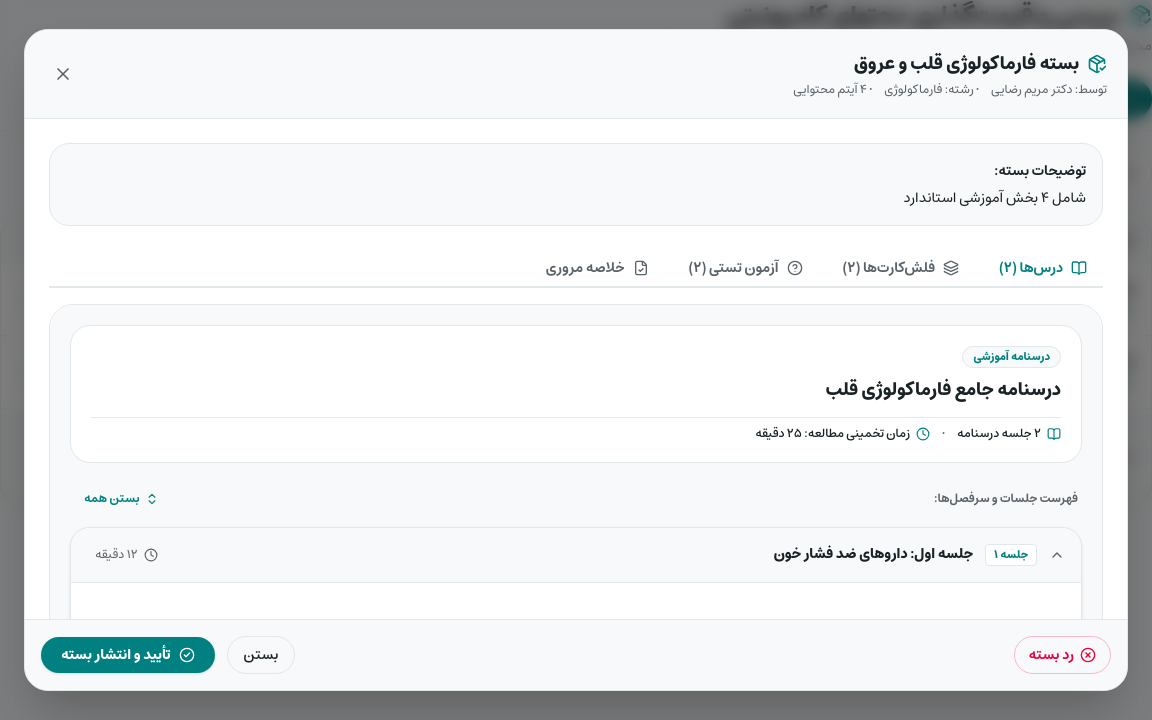
Scenario: AdminCommunityContentPage Component Tests › 3. Tab switching between Lesson, Flashcards, Quiz, and Summary works without crash
Check: the heading "درسنامه جامع فارماکولوژی قلب" is shown, box [826,374,1061,406]
# Switch to Flashcards tab
Click the button "فلش‌کارت‌ها (۲)". click: (901, 269)
box: [826,250,975,288]
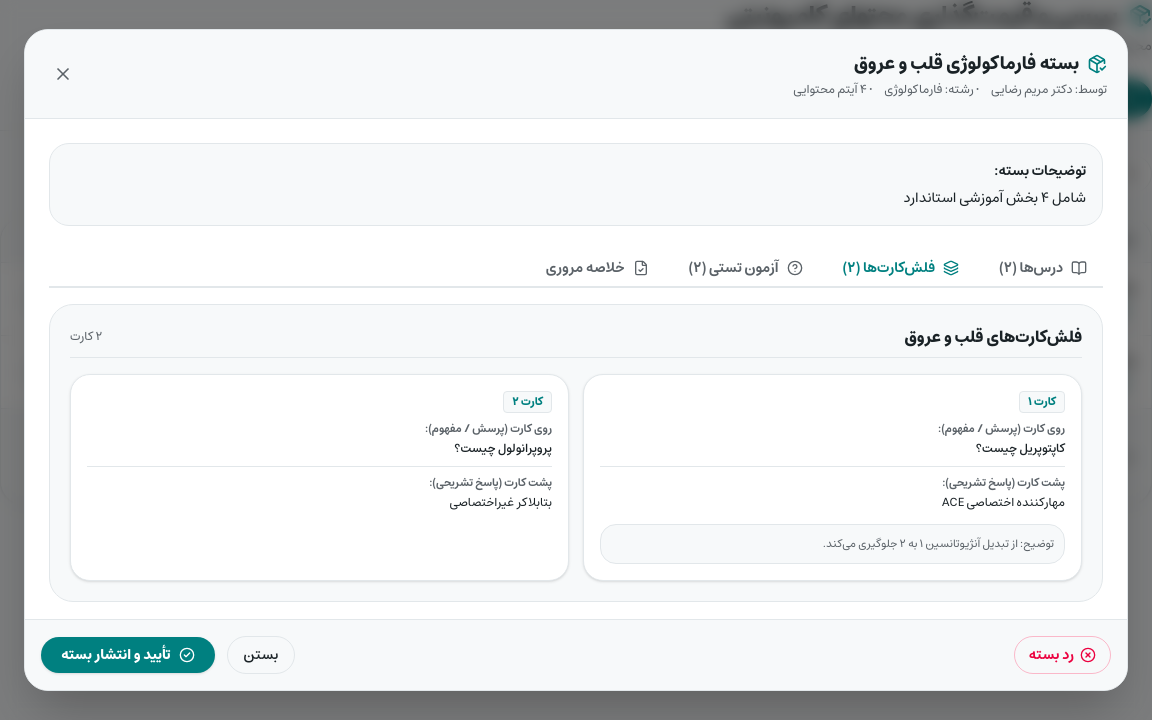
Check: the text "کاپتوپریل چیست؟" is shown, box [976,438,1065,459]
Check: the text "مهارکننده اختصاصی ACE" is shown, box [942,492,1065,513]
Check: the text "از تبدیل آنژیوتانسین ۱ به ۲ جلوگیری می‌کند." is shown, box [823,534,1018,553]
# Switch to Quiz tab
Click the button "آزمون تستی (۲)". click: (746, 269)
box: [672,250,818,288]
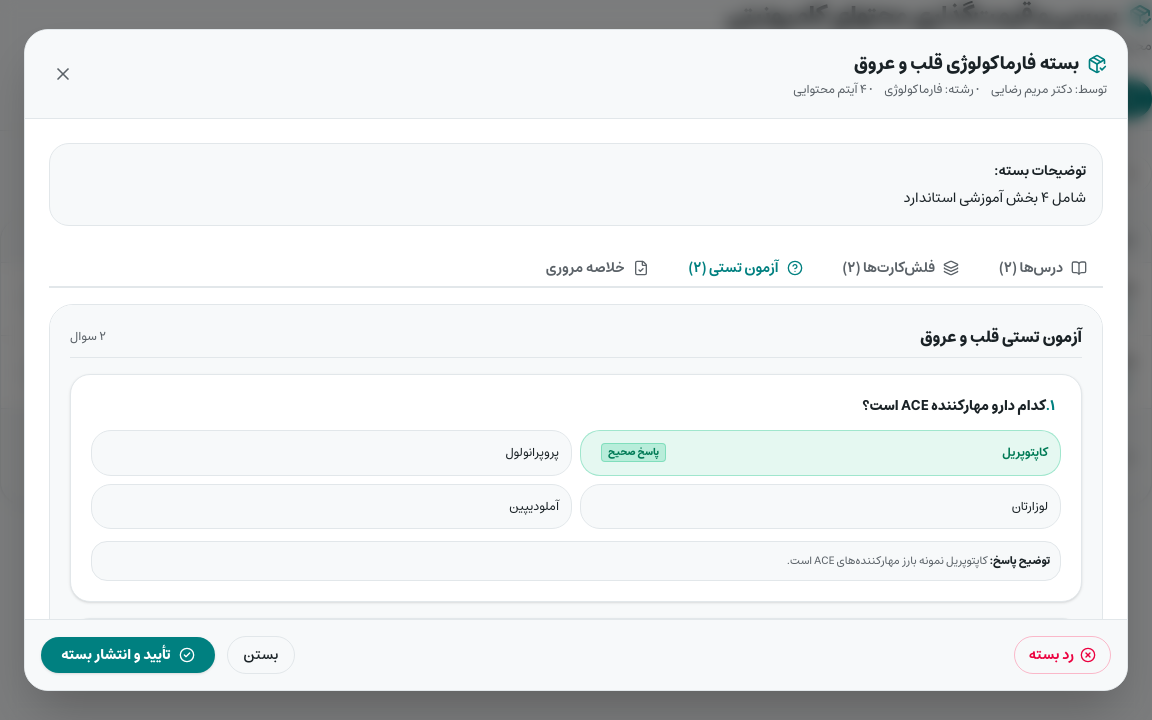
Check: the text "کدام دارو مهارکننده ACE است؟" is shown, box [862,394,1046,418]
Check: the text "کاپتوپریل نمونه بارز مهارکننده‌های ACE است." is shown, box [787,551,988,570]
# Switch to Summary tab
Click the button "خلاصه مروری". click: (597, 269)
box: [530,250,664,288]
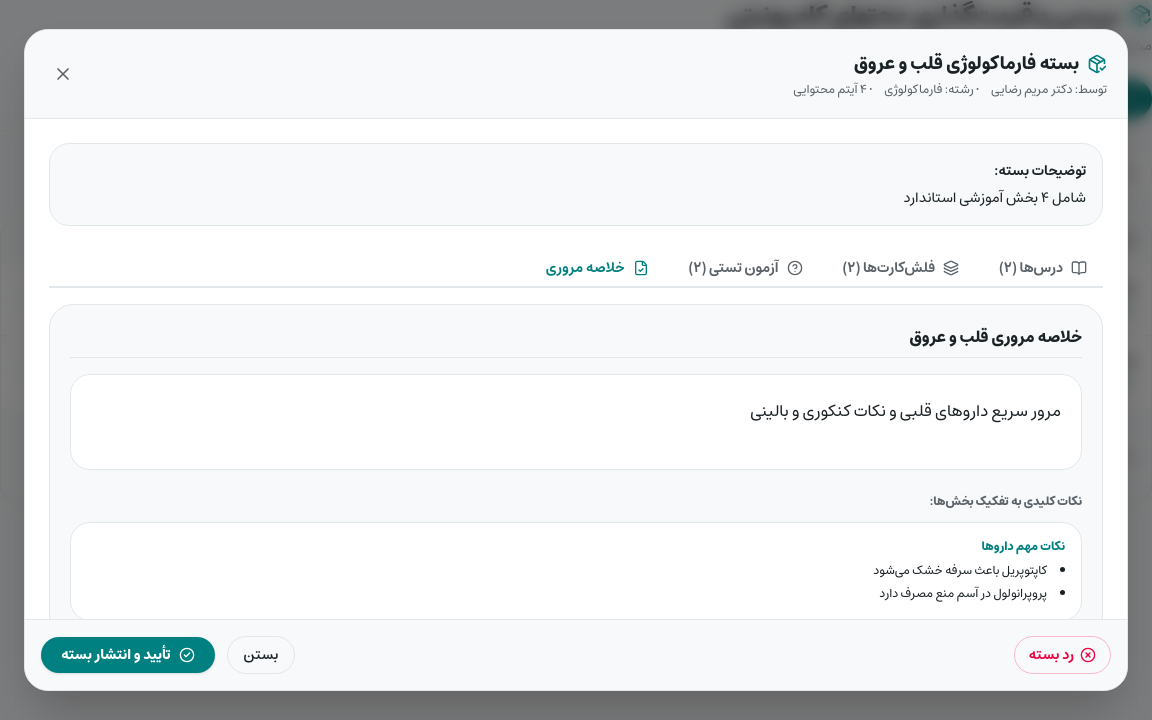
Check: the text "مرور سریع داروهای قلبی و نکات کنکوری و بالینی" is shown, box [750,397,1061,425]
Check: the text "نکات مهم داروها" is shown, box [982,536,1065,557]
